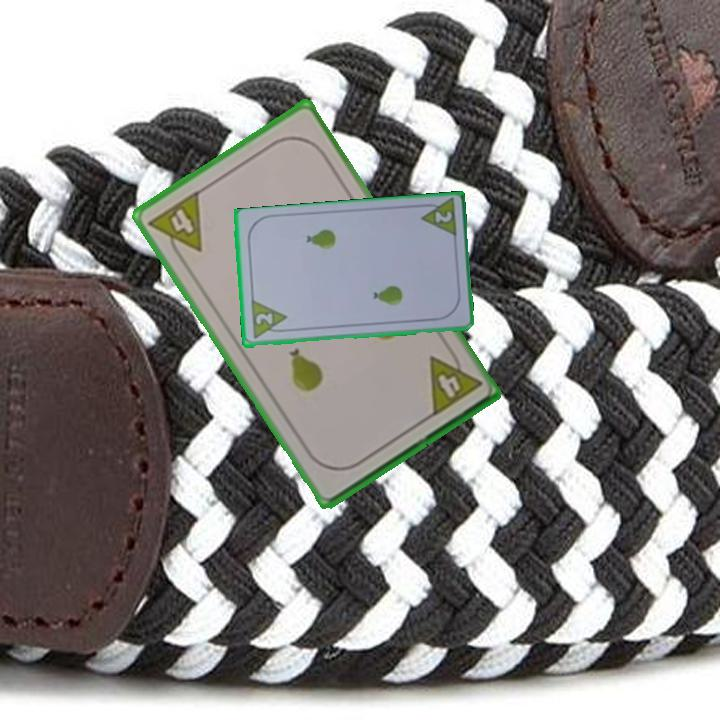2p: (415, 196, 459, 241), (252, 309, 275, 328)
4p: (144, 187, 205, 266), (425, 343, 484, 420)
